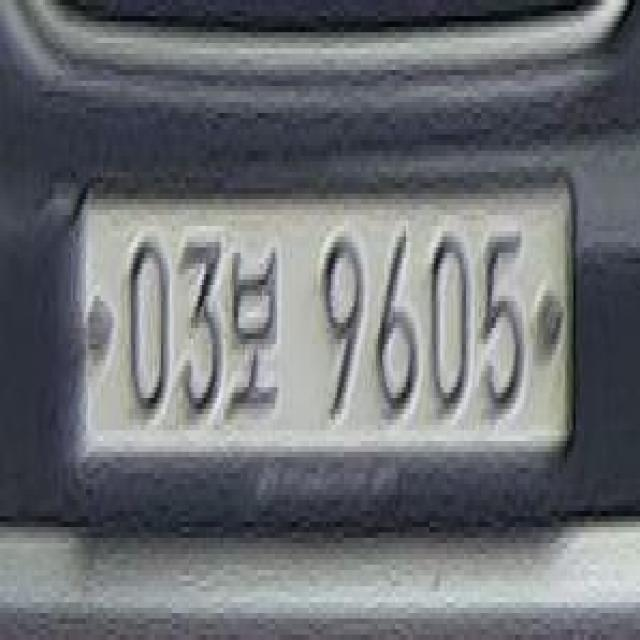illegal_plate: (85, 168, 573, 501)
